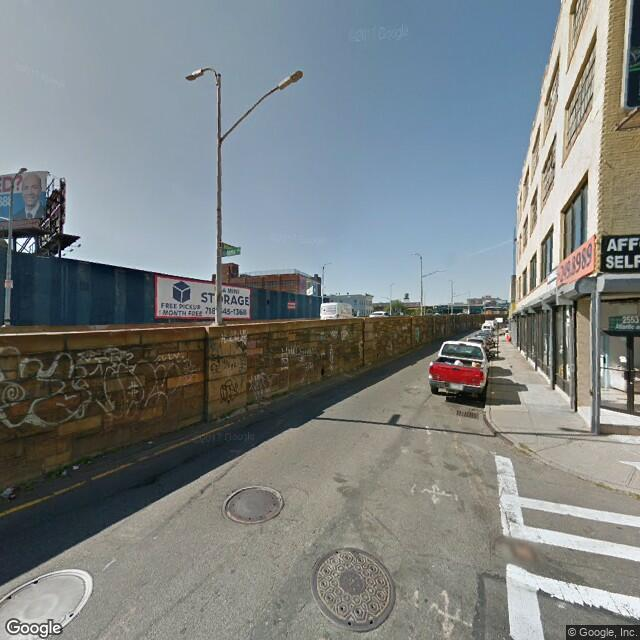litter: (1, 486, 15, 504), (57, 469, 69, 476), (70, 464, 82, 471), (144, 439, 157, 443)
